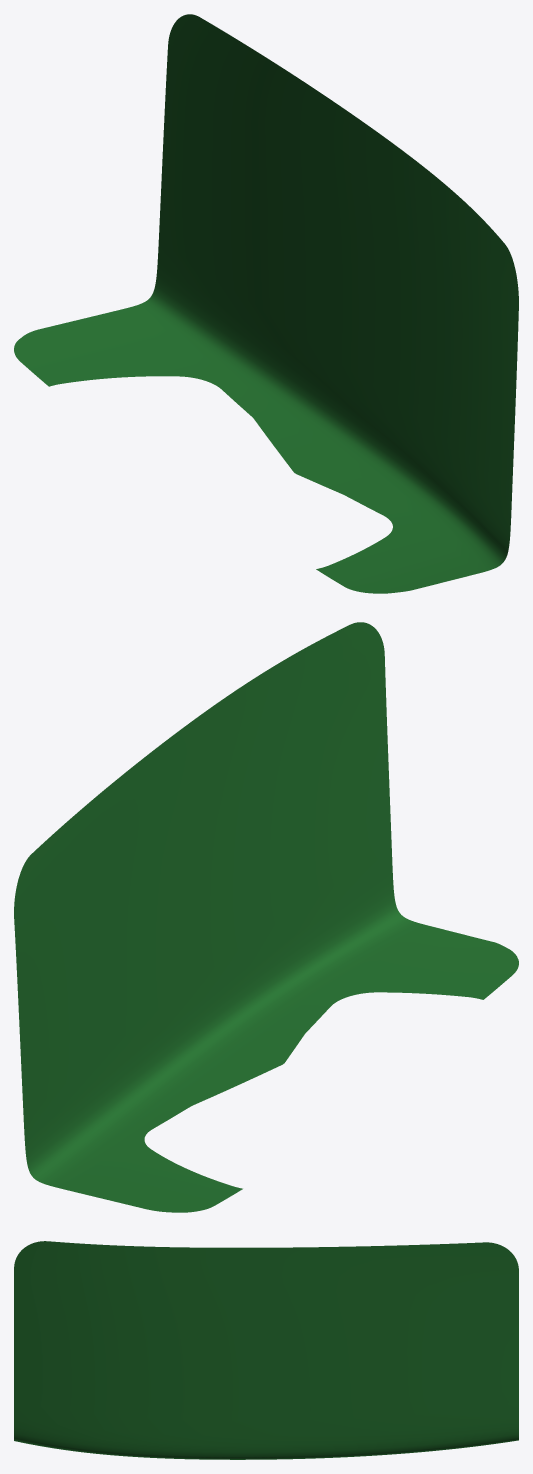
File: Ruben_GF_test_Cover_FL.glb
3 renders of one model, top to bottom at view 1: azimuth 30°, elevation 25°; view 2: azimuth 150°, elevation 25°; view 3: azimuth 270°, elevation 25°, orthographic. The views are drawn at different scales.
Parts seen in each view (by area): view 1: Leon.011; view 2: Leon.011; view 3: Leon.011.
Part boxes in pixels (x1,y1,x2,y2): Leon.011: (14, 14, 518, 593); Leon.011: (14, 622, 518, 1212); Leon.011: (14, 1241, 518, 1459).
Size of the model in its own units: 0.00208 by 0.00318 by 0.0066.
Materials: 1 (1 with a texture image).
